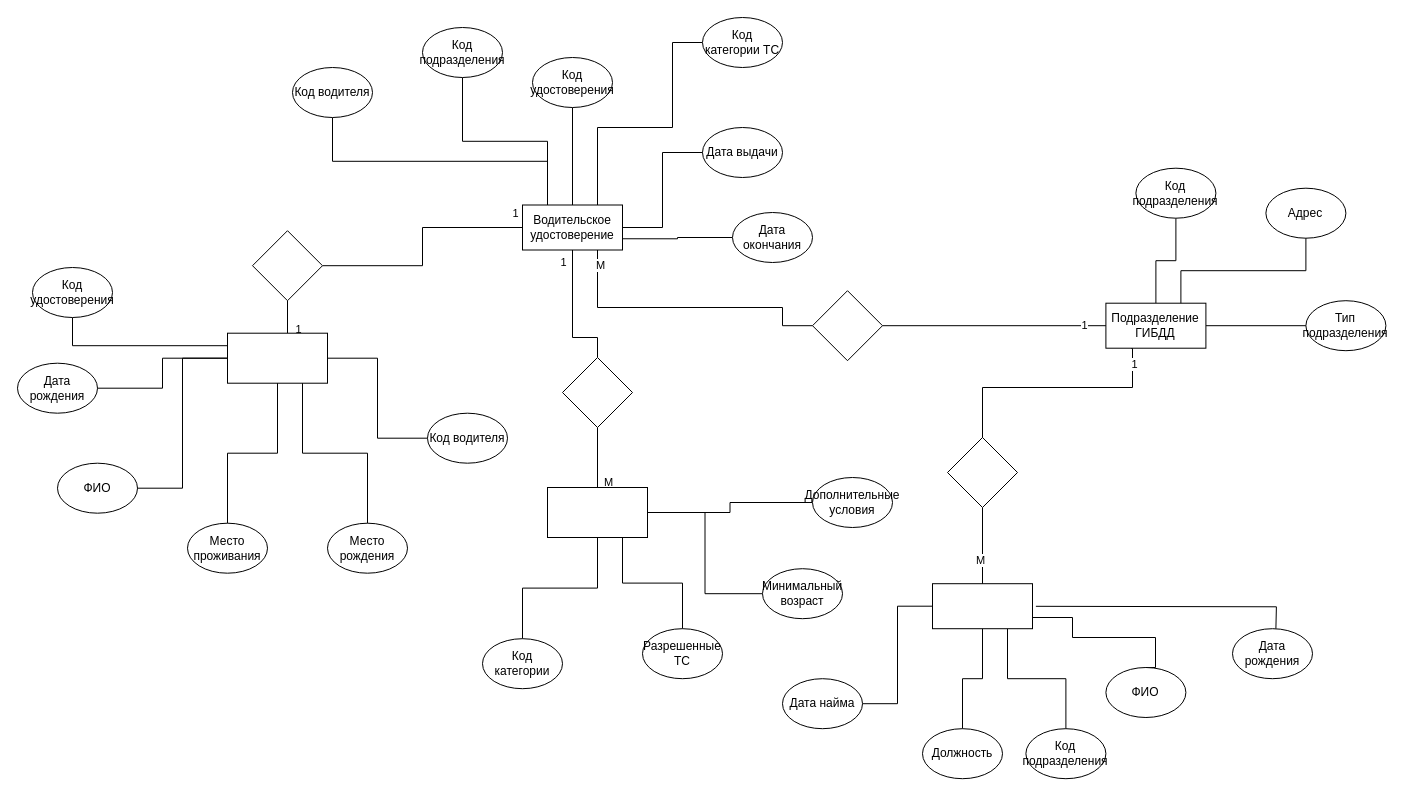
This 1406x797 diagram has some shape labels left out. Each missing label, with the centre of its shape:
"Водитель ТС" goes at point (277, 357).
"Выдает" goes at point (847, 325).
"Дает доступ" goes at point (597, 392).
"Имеет" goes at point (287, 265).
"Категория ТС" goes at point (597, 512).
"Принадлежит" goes at point (982, 472).
"Сотрудник ГИБДД" goes at point (982, 606).
